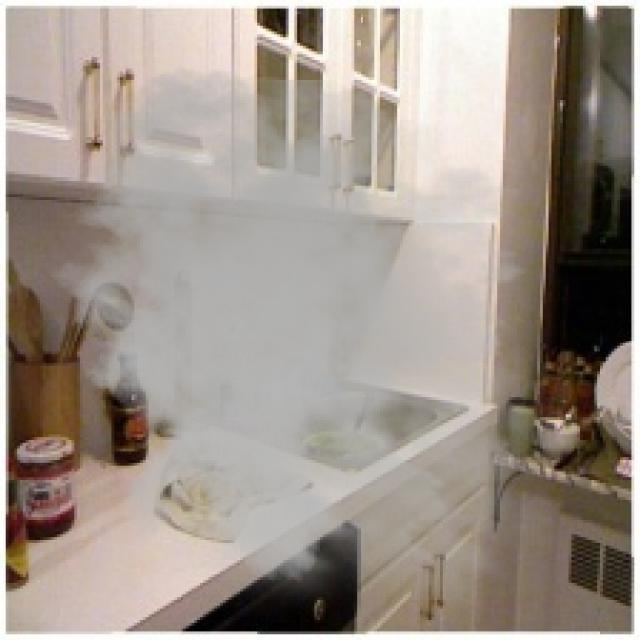Smoke: (34, 66, 589, 634)
